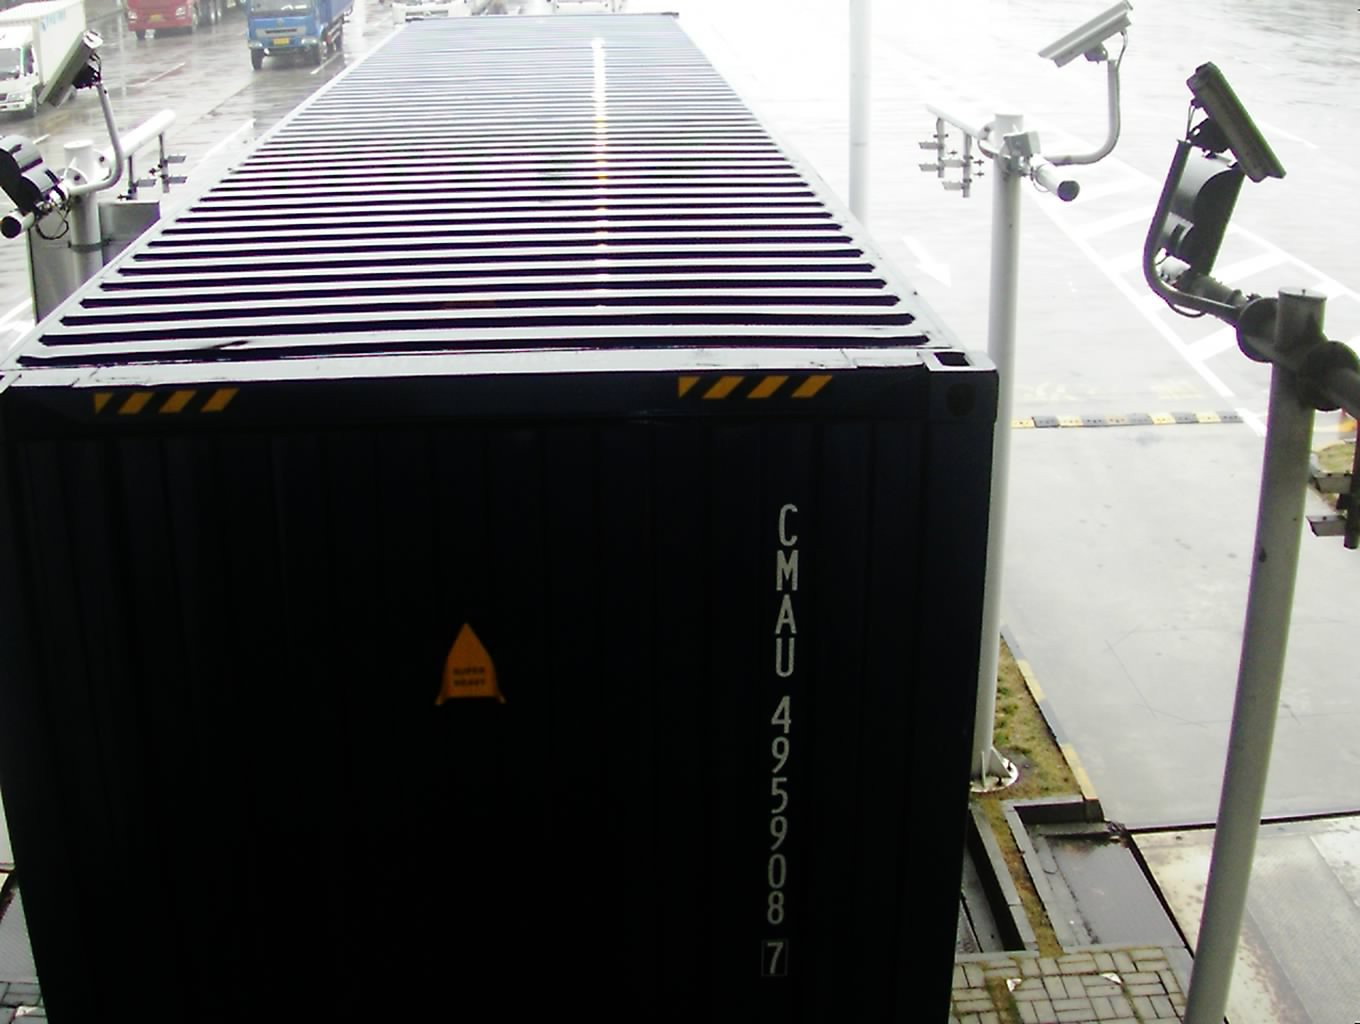words: (759, 493, 805, 983)
